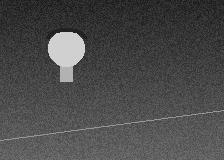no_helmet: (48, 28, 84, 71)
